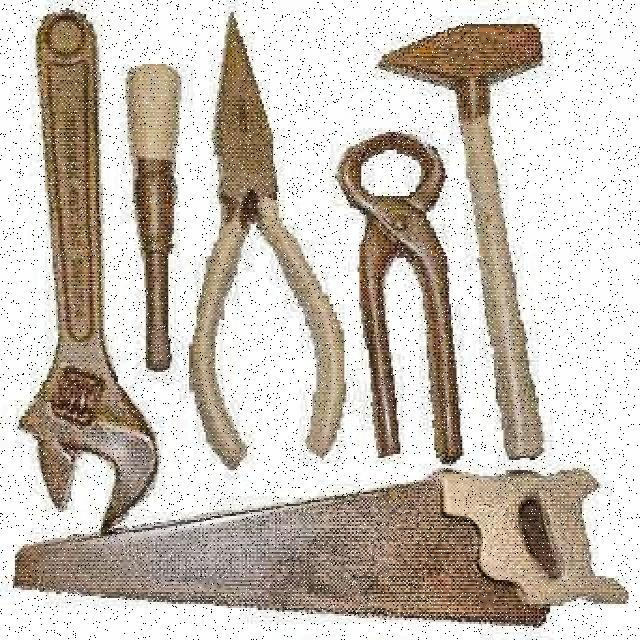hammer: (374, 21, 586, 464)
